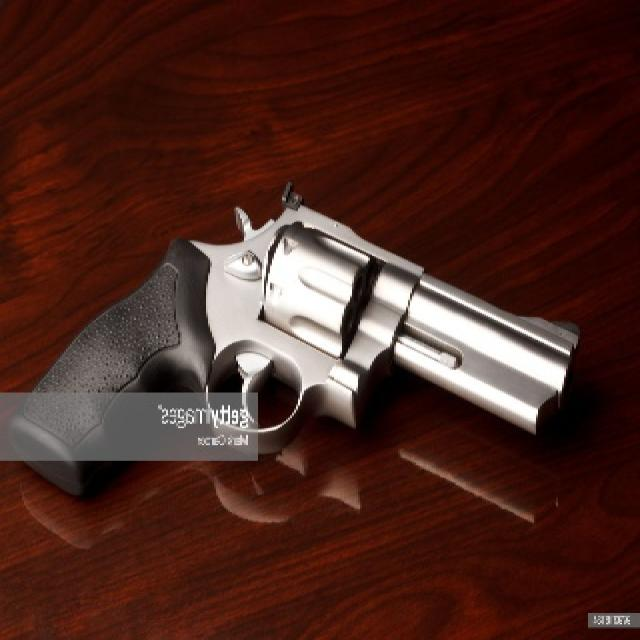handgun: (13, 158, 607, 506)
